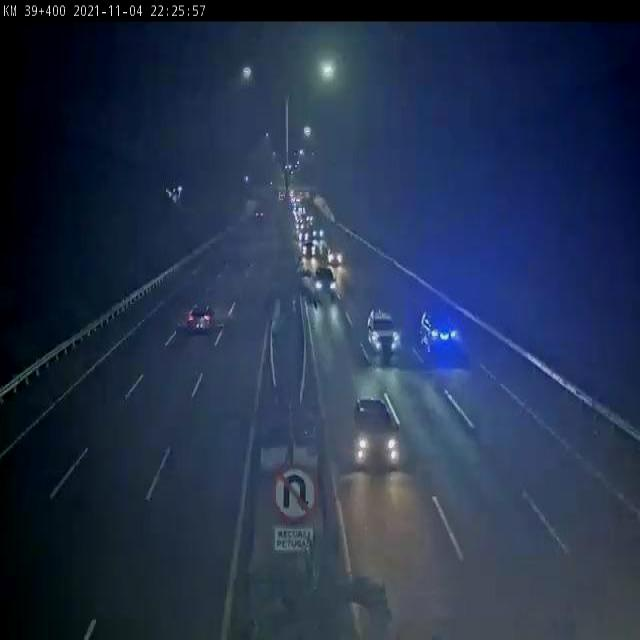Car: (350, 394, 402, 473), (418, 307, 461, 358), (364, 308, 402, 364), (183, 303, 218, 339), (309, 266, 341, 305), (325, 242, 345, 269), (299, 239, 318, 262)
